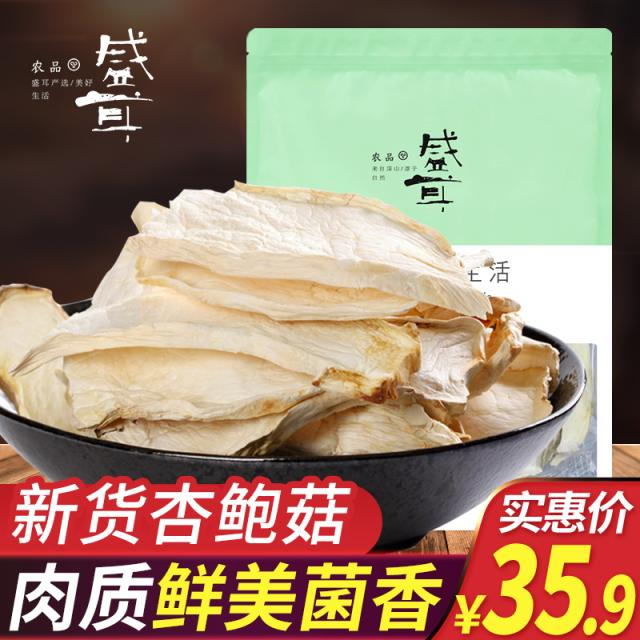Pleurotus eryngii: (1, 178, 558, 454)
